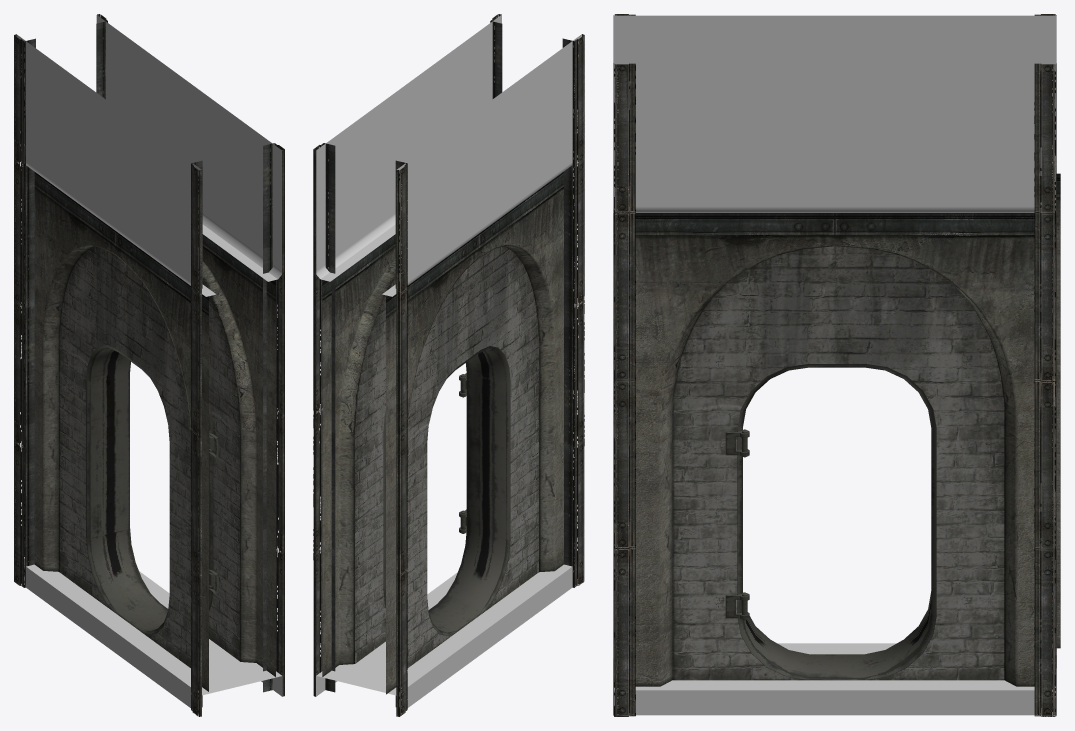
The model's file is tesla_ents_leveldoor_01_frame.dae.
The picture shows the model from 3 angles, left to right: view 1: azimuth 30°, elevation 25°; view 2: azimuth 150°, elevation 25°; view 3: azimuth 270°, elevation 25°; orthographic projection. The views are drawn at different scales.
Visible parts, largest first — view 1: polySurface190, door_01_stone, door_01_metal, door_01_bricks; view 2: polySurface190, door_01_stone, door_01_metal, door_01_bricks; view 3: polySurface190, door_01_stone, door_01_metal, door_01_bricks.
Part boxes in pixels (x1,y1,x2,y2): polySurface190: (24, 166, 275, 691); door_01_stone: (16, 15, 282, 713); door_01_metal: (14, 14, 284, 716); door_01_bricks: (86, 344, 218, 634); polySurface190: (322, 167, 569, 694); door_01_stone: (316, 15, 581, 708); door_01_metal: (313, 14, 584, 716); door_01_bricks: (383, 346, 510, 635); polySurface190: (613, 173, 1060, 686); door_01_stone: (613, 15, 1056, 715); door_01_metal: (613, 14, 1056, 716); door_01_bricks: (725, 364, 936, 680).
Size of the model in its own units: 1.07 by 6.5 by 4.04.
